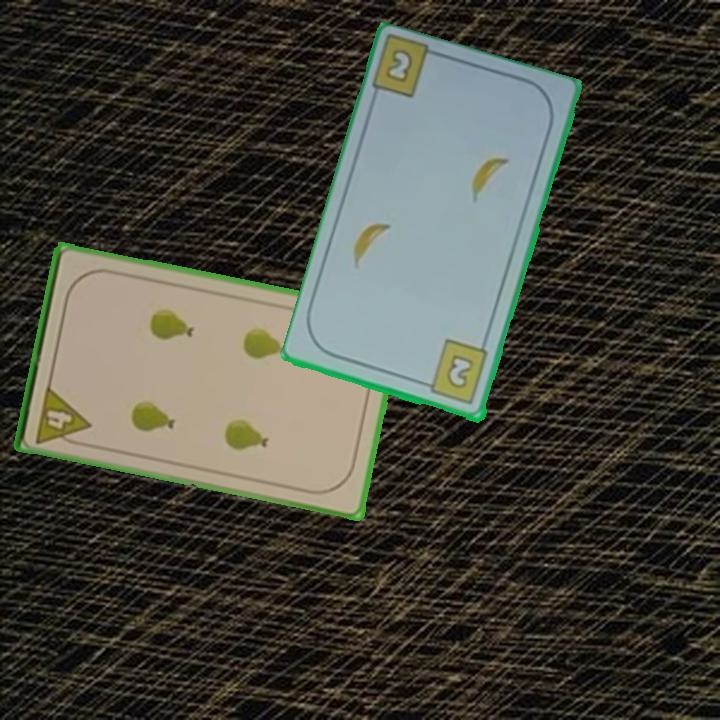2b: (418, 337, 491, 408), (382, 45, 416, 87)
4p: (32, 381, 93, 449)
